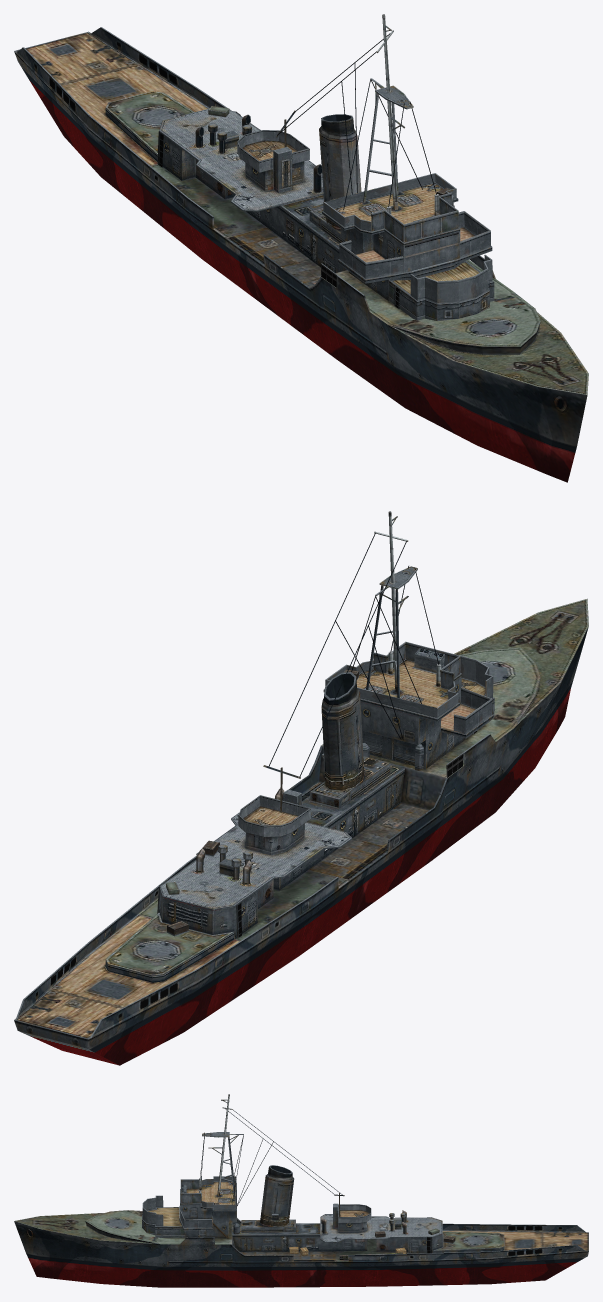
The model's file is Boat_0.FBX.
3 views of the same model, one above another, from view 1: azimuth 30°, elevation 25°; view 2: azimuth 150°, elevation 25°; view 3: azimuth 270°, elevation 25° (orthographic). The views are drawn at different scales.
Visible parts, largest first — view 1: Boat_0; view 2: Boat_0; view 3: Boat_0.
Part boxes in pixels (x1=…): Boat_0: x1=14, y1=14, x2=588, y2=482; Boat_0: x1=14, y1=511, x2=588, y2=1065; Boat_0: x1=14, y1=1094, x2=588, y2=1287.
Size of the model in its own units: 7.62 by 19.26 by 55.4.
Materials: 1 (1 with a texture image).
